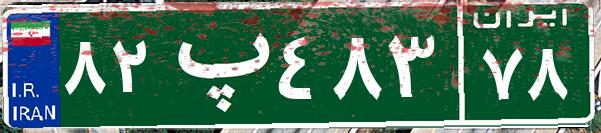2: (110, 28, 158, 105)
3: (385, 28, 445, 110)
4: (273, 28, 330, 110)
7: (475, 38, 525, 113)
8: (330, 28, 385, 110), (57, 26, 110, 107), (525, 38, 570, 115)
پ: (158, 15, 273, 115)
